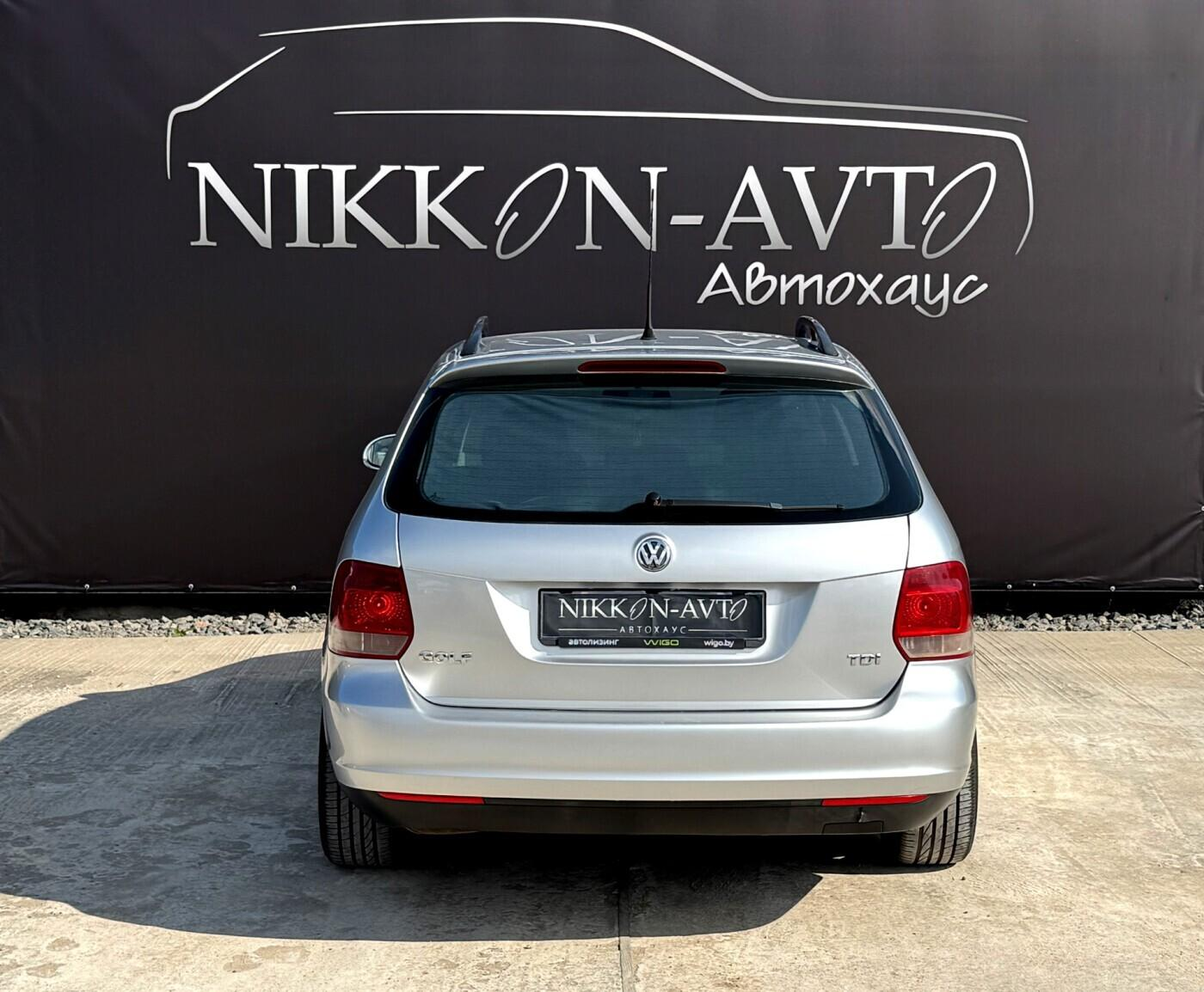Golf_2003-2009: (304, 324, 996, 878)
